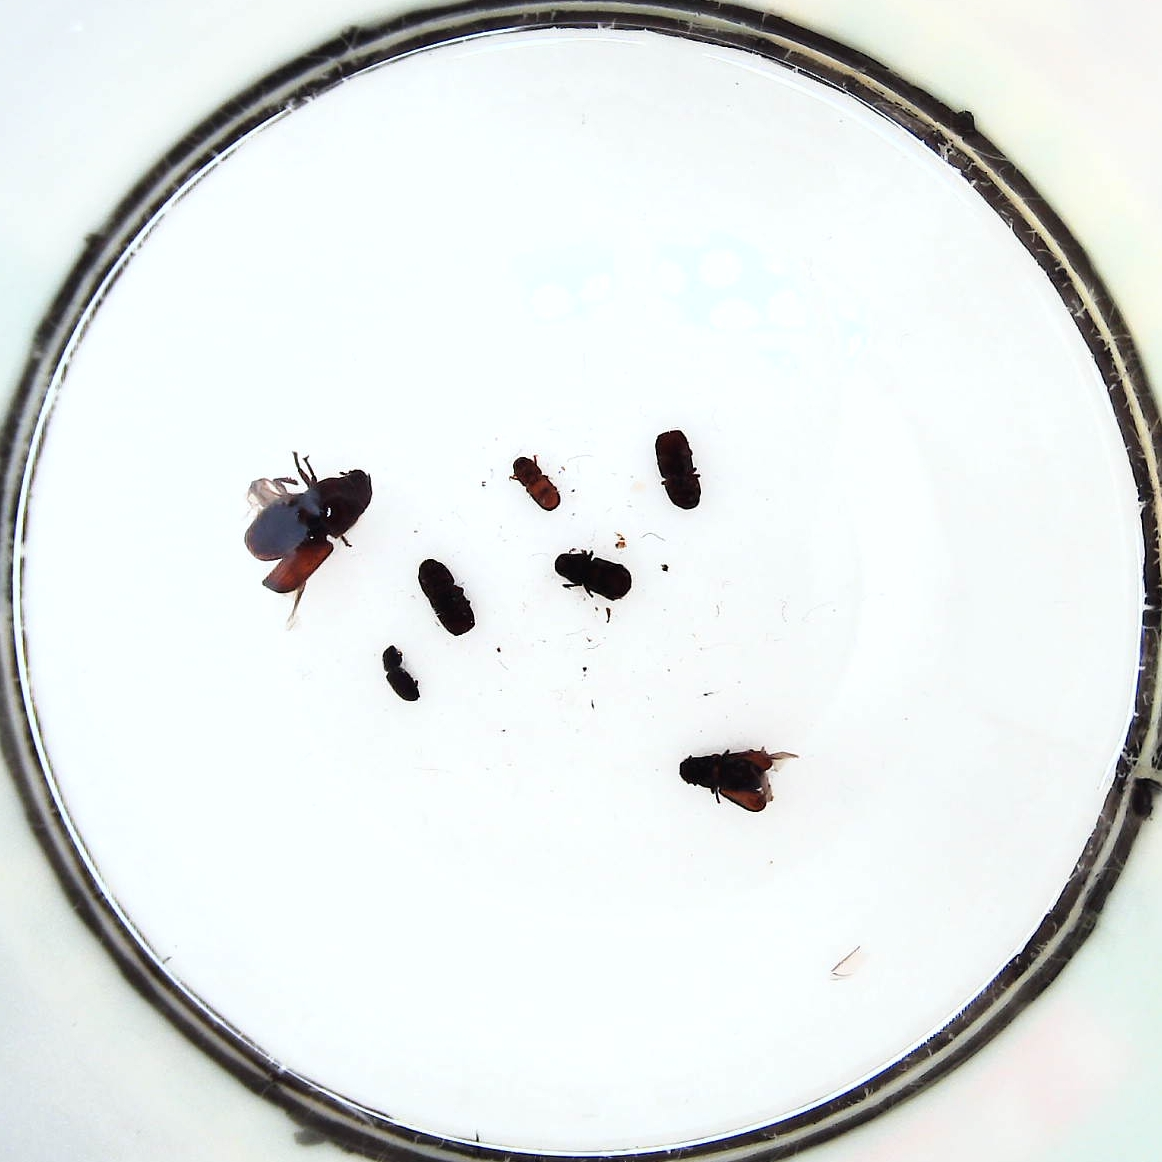Leconte: (239, 458, 377, 595), (677, 745, 780, 815)
Linnaeus: (416, 553, 479, 636), (649, 424, 703, 515)
acuminatus: (510, 453, 564, 512)
armandi: (551, 545, 634, 602)
coleoptera: (380, 640, 421, 705)
